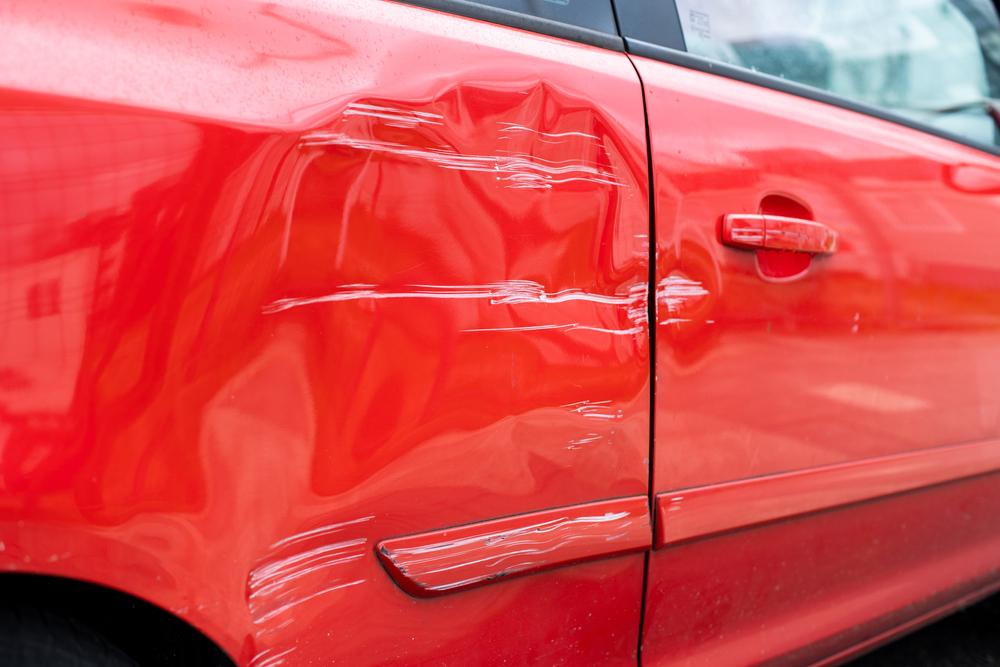dent: (151, 82, 645, 552), (655, 238, 723, 356)
scratch: (374, 504, 640, 594), (244, 511, 374, 667)
